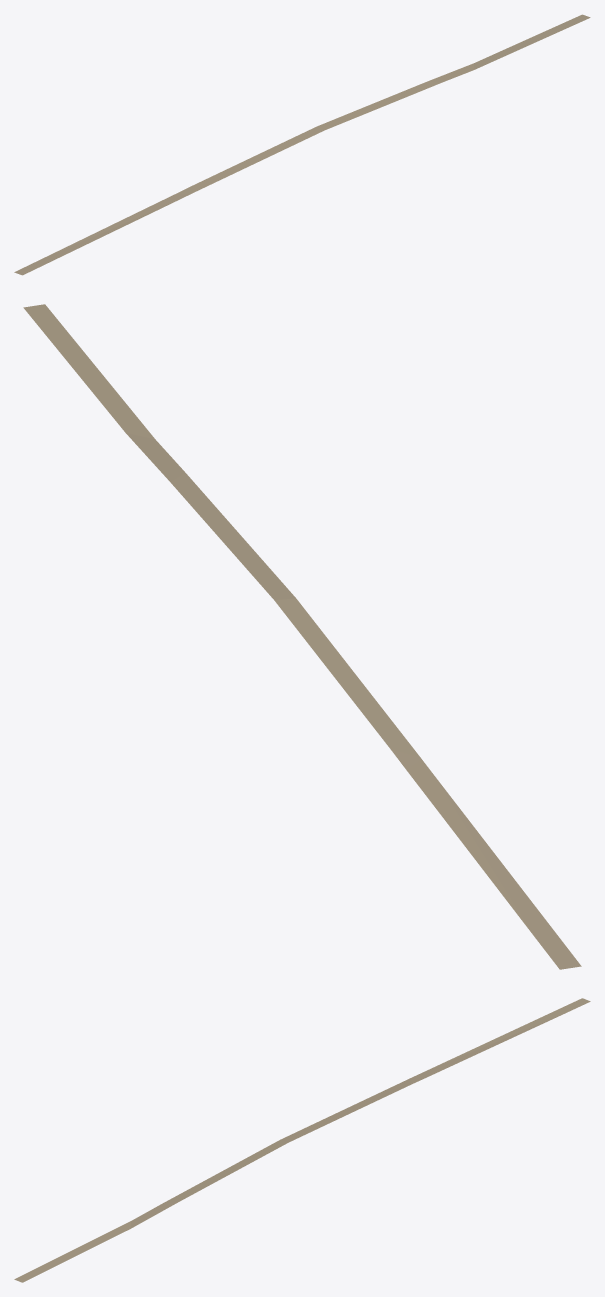
File: farm_-36_-30_track.glb
The picture shows the model from 3 angles, top to bottom: view 1: azimuth 90°, elevation 25°; view 2: azimuth 150°, elevation 25°; view 3: azimuth 270°, elevation 25°; orthographic projection. The views are drawn at different scales.
Visible parts, largest first — view 1: geometry_0; view 2: geometry_0; view 3: geometry_0.
Part boxes in pixels (x1,y1,x2,y2): geometry_0: (14,14,590,275); geometry_0: (23,304,581,969); geometry_0: (14,998,590,1282).
Size of the model in its own units: 184 by 4.39 by 164.
